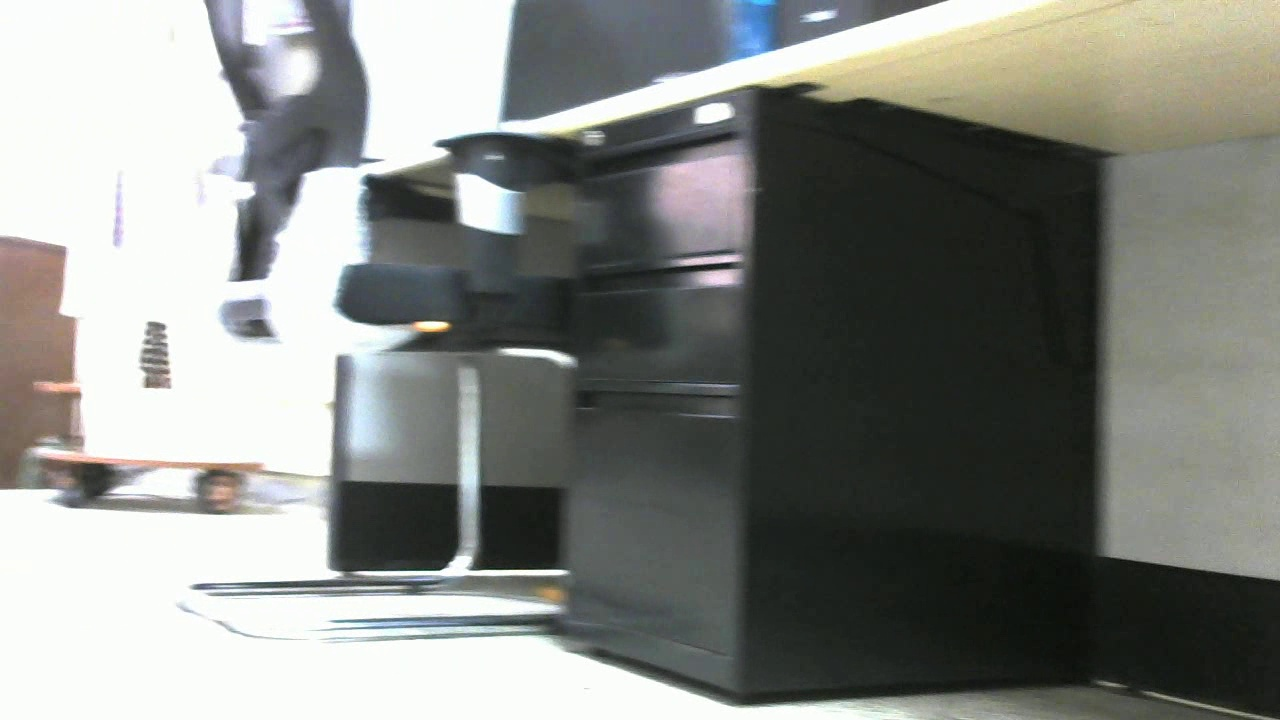chair: (169, 1, 624, 636)
